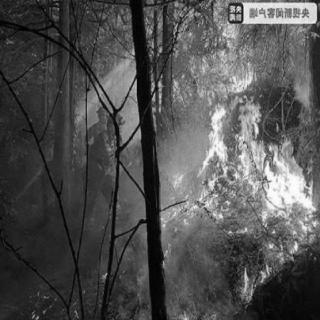Fire: (194, 32, 308, 310)
